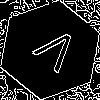V: (25, 25, 83, 81)
